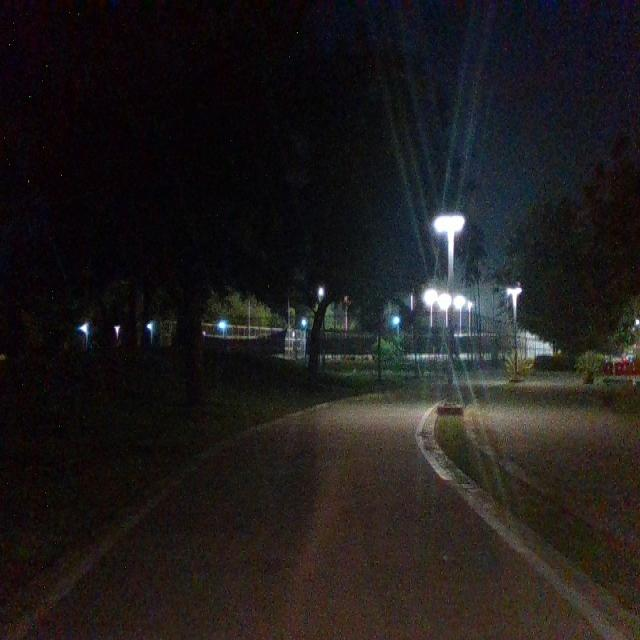lane: (23, 397, 606, 640)
